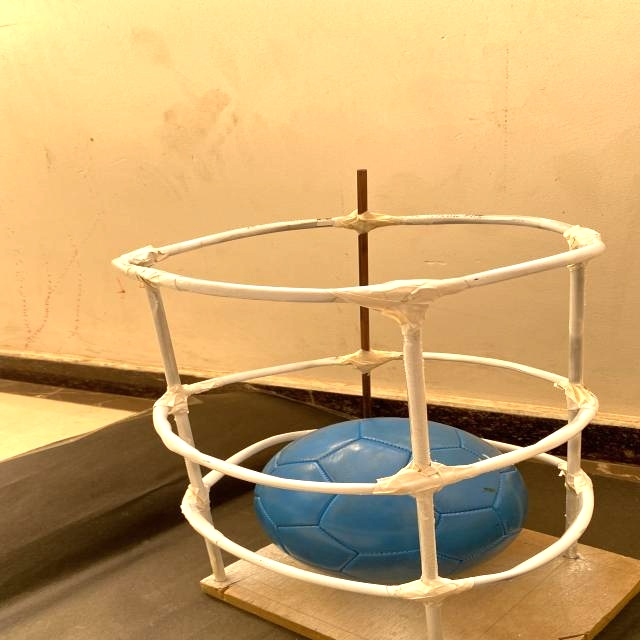blue_ball: (266, 416, 522, 577)
silo: (104, 182, 640, 640)
